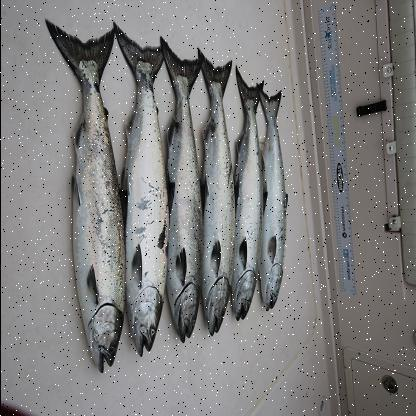fish: (46, 17, 126, 372), (112, 22, 167, 358), (160, 37, 204, 345), (198, 46, 236, 335), (230, 70, 268, 324), (257, 89, 289, 315)
